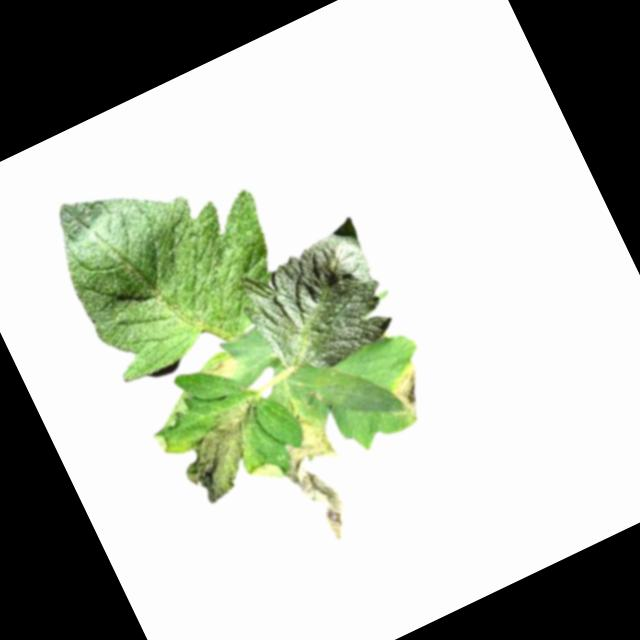Late_blight: (260, 407, 375, 555), (156, 392, 288, 513), (380, 361, 440, 430), (200, 350, 245, 390)
